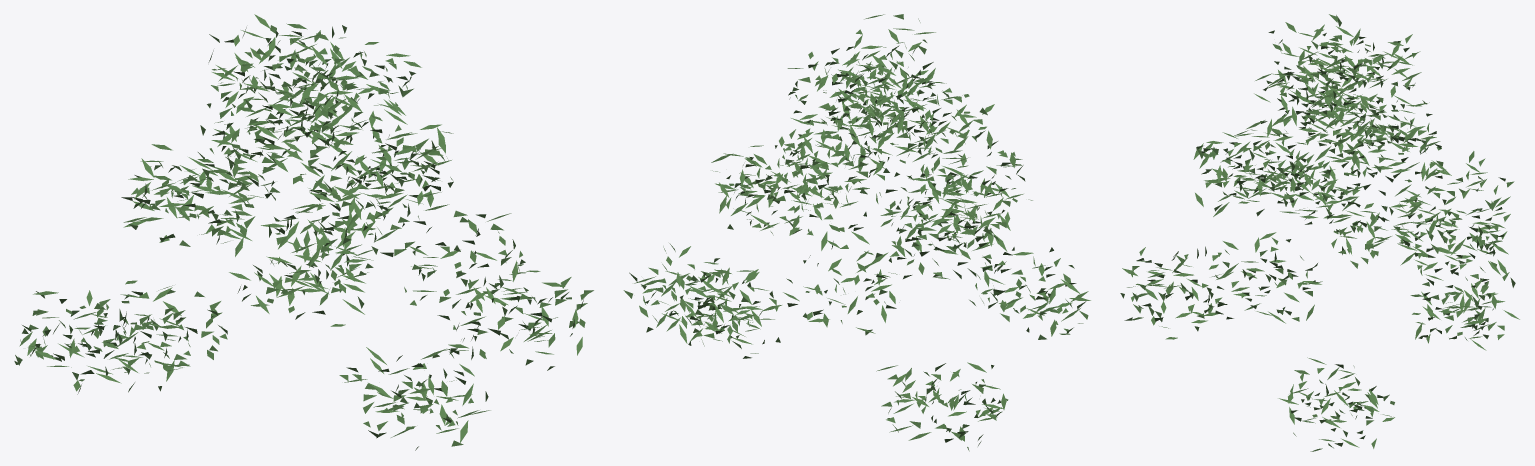
File: teaching3-vegetation-08-medium.glb
The picture shows the model from 3 angles, left to right: view 1: azimuth 30°, elevation 25°; view 2: azimuth 150°, elevation 25°; view 3: azimuth 270°, elevation 25°; orthographic projection. The views are drawn at different scales.
Parts seen in each view (by area): view 1: vegetation cedar leaves.002; view 2: vegetation cedar leaves.002; view 3: vegetation cedar leaves.002.
Boxes of the visible parts, x1,y1,x2,y2 form: vegetation cedar leaves.002: [14, 14, 593, 450]; vegetation cedar leaves.002: [623, 14, 1090, 451]; vegetation cedar leaves.002: [1120, 14, 1519, 451].
Bounding box in the file's own units: 12.13 × 8.78 × 9.98.
